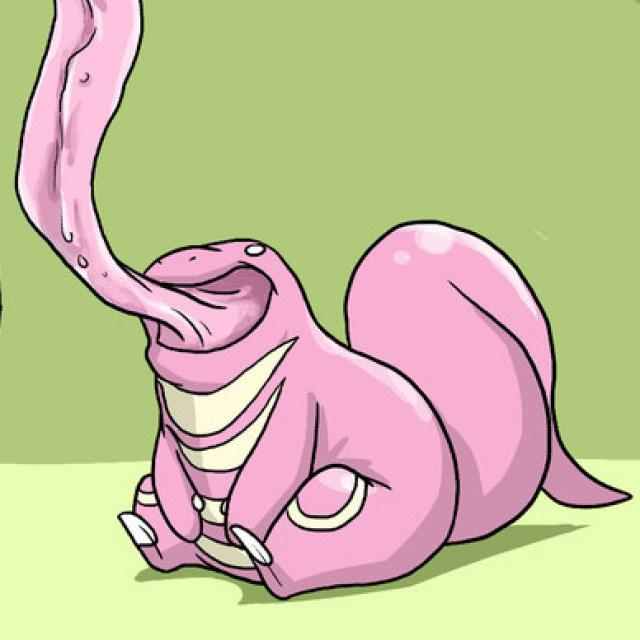Lickitung: (90, 227, 484, 589)
